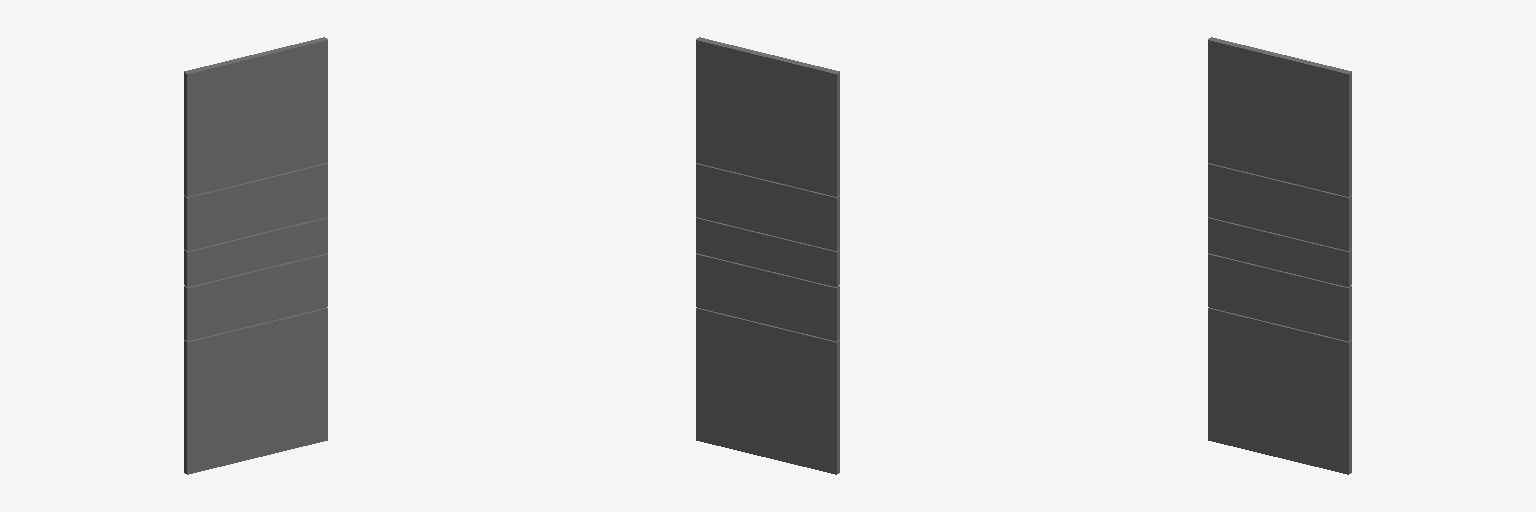
File: drzwiczki.obj
3 views of the same model, side by side, from view 1: azimuth 30°, elevation 25°; view 2: azimuth 150°, elevation 25°; view 3: azimuth 330°, elevation 25° (orthographic).
Visible parts, largest first — view 1: PRZODY_MESH FLEXLINE__HIGH_CABINET_90; view 2: PRZODY_MESH FLEXLINE__HIGH_CABINET_90; view 3: PRZODY_MESH FLEXLINE__HIGH_CABINET_90.
Boxes of the visible parts, <box> form: PRZODY_MESH FLEXLINE__HIGH_CABINET_90: <box>184,37,327,474</box>; PRZODY_MESH FLEXLINE__HIGH_CABINET_90: <box>696,37,839,474</box>; PRZODY_MESH FLEXLINE__HIGH_CABINET_90: <box>1208,37,1351,474</box>.
Bounding box in the file's own units: 1.04 × 2.82 × 0.0483.